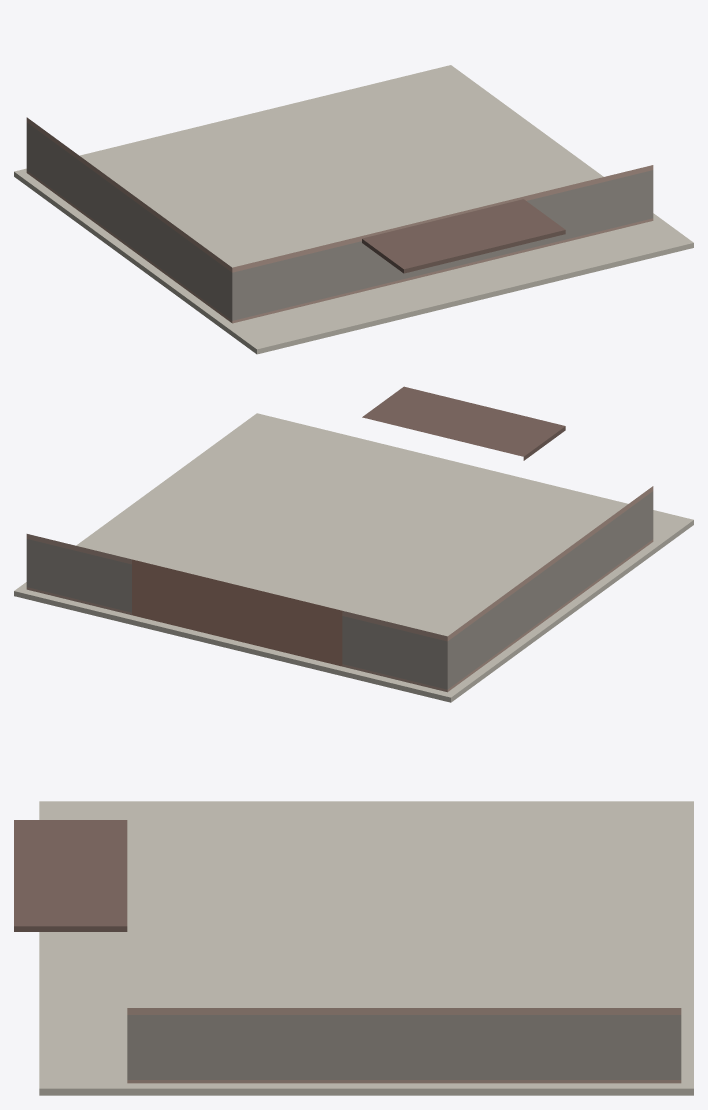
Rendered from brick-lobby.flat-v1.lod2.glb.
The picture shows the model from 3 angles, top to bottom: view 1: azimuth 30°, elevation 25°; view 2: azimuth 150°, elevation 25°; view 3: azimuth 270°, elevation 25°; orthographic projection. The views are drawn at different scales.
Parts seen in each view (by area): view 1: brick-lobby; view 2: brick-lobby; view 3: brick-lobby.
Boxes of the visible parts, x1,y1,x2,y2 form: brick-lobby: (14,65,693,354); brick-lobby: (14,386,693,702); brick-lobby: (14,801,693,1095).
Bounding box in the file's own units: 27 × 3.6 × 27.
